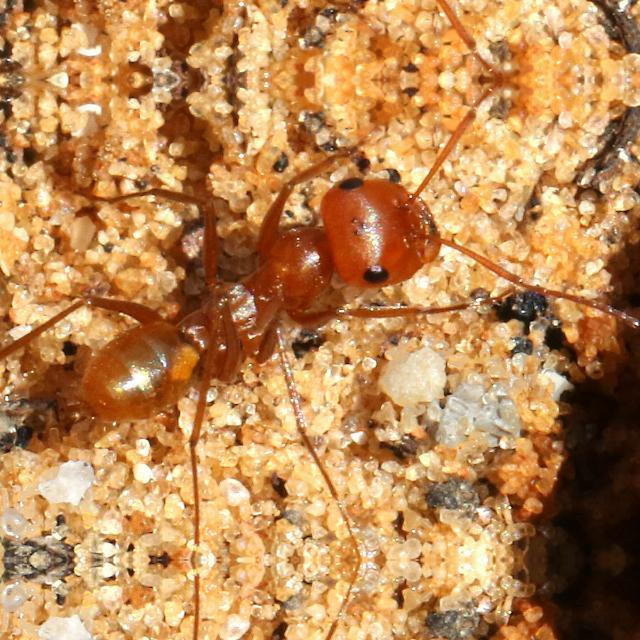Cataglyphis: (18, 126, 500, 464)
